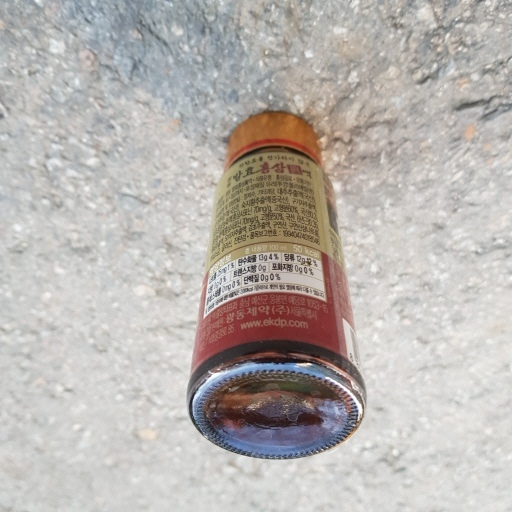Glass_3: (177, 109, 368, 464)
